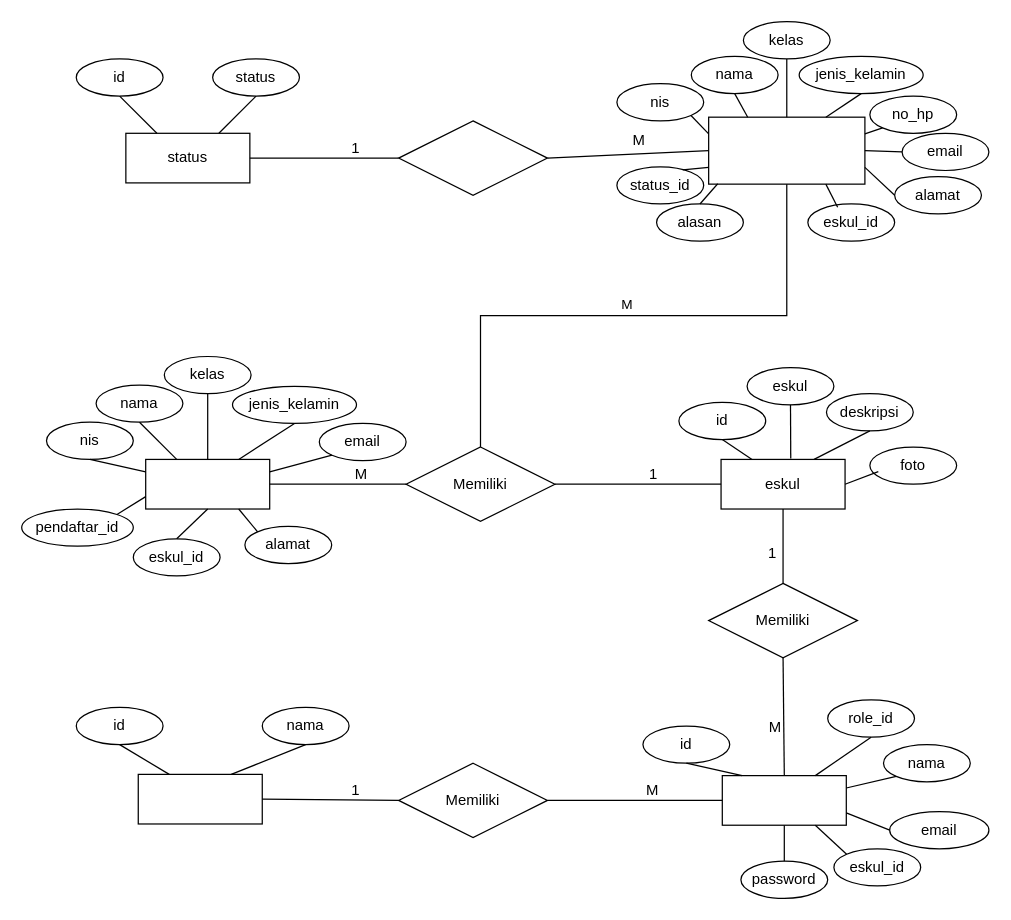
The diagram is 1011 pixels wide and 920 high, and some of its shapes have lost their labels. Here are the shapes that lost their labels. From the top down, the box of each, then its label:
(397, 120, 547, 195): Input
(707, 116, 865, 184): pendaftar
(144, 458, 270, 509): anggota
(137, 773, 262, 824): Role
(721, 774, 846, 825): Users
